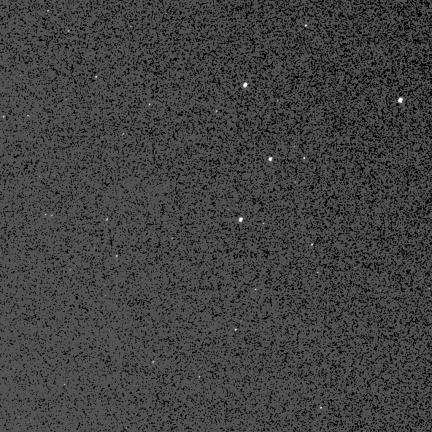blob: (398, 98, 403, 103), (243, 83, 247, 88), (269, 157, 273, 162), (239, 218, 242, 222), (235, 329, 238, 332)
